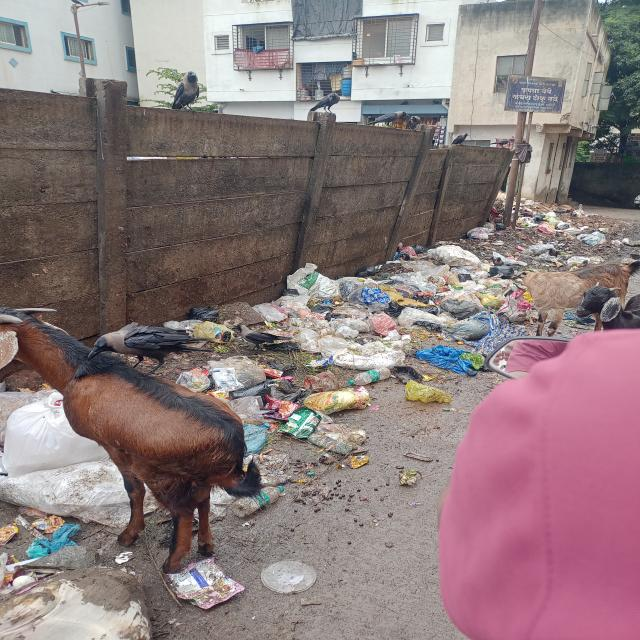garbage: (168, 243, 509, 450), (453, 196, 623, 270)
